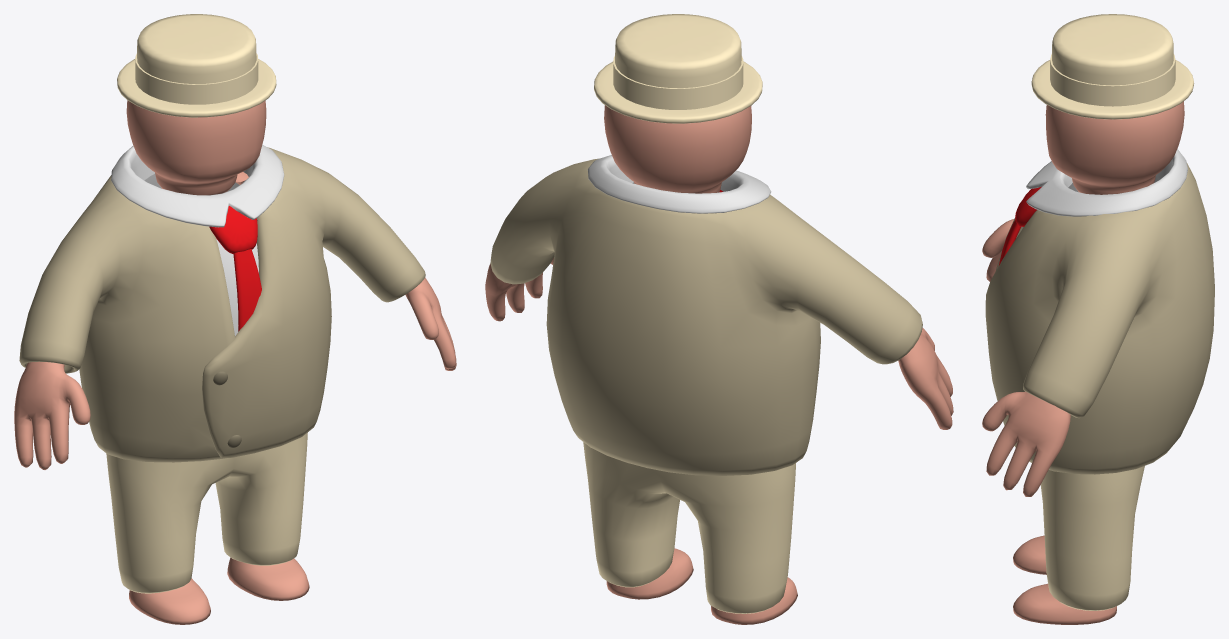
Rendered from SM_MauritsCharacterReference.fbx.
3 renders of one model, left to right at view 1: azimuth 30°, elevation 25°; view 2: azimuth 150°, elevation 25°; view 3: azimuth 270°, elevation 25°, orthographic. The views are drawn at different scales.
Visible parts, largest first — view 1: MauritsCharacterReference; view 2: MauritsCharacterReference; view 3: MauritsCharacterReference.
Boxes of the visible parts, box(x1,y1,x2,y2) form: MauritsCharacterReference: box(14, 14, 456, 624); MauritsCharacterReference: box(485, 14, 953, 624); MauritsCharacterReference: box(982, 14, 1214, 624).
Size of the model in its own units: 1.29 by 1.53 by 0.5884.
